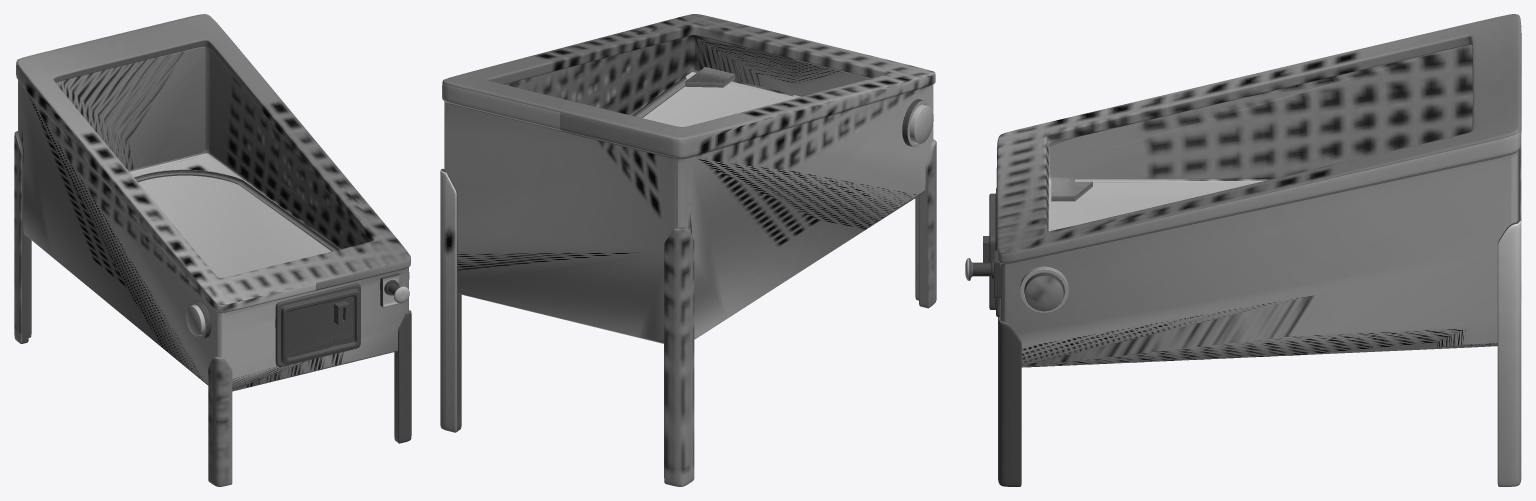
Rendered from Pinball_Cover.obj.
3 renders of one model, left to right at view 1: azimuth 30°, elevation 25°; view 2: azimuth 150°, elevation 25°; view 3: azimuth 270°, elevation 25°, orthographic. The views are drawn at different scales.
Parts seen in each view (by area): view 1: Base, Lpanel, Fpanel, Rail, Lbutton; view 2: Base, Bpanel, Lpanel, Lbutton, Bottom, Rail; view 3: Base, Rpanel, Rbutton, Bottom.
Part boxes in pixels (box(x1,y1,x2,y2)): Base: box(14, 14, 411, 486); Lpanel: box(18, 80, 217, 385); Fpanel: box(222, 268, 407, 391); Rail: box(134, 169, 339, 251); Lbutton: box(186, 300, 211, 338); Base: box(440, 14, 936, 486); Bpanel: box(445, 103, 677, 343); Lpanel: box(684, 85, 933, 338); Lbutton: box(902, 99, 933, 147); Bottom: box(685, 67, 734, 87); Rail: box(632, 75, 687, 117); Base: box(965, 14, 1521, 486); Rpanel: box(1005, 155, 1511, 367); Rbutton: box(1020, 266, 1068, 313); Bottom: box(1051, 177, 1092, 201).
Size of the model in its own units: 128 by 160 by 228.
